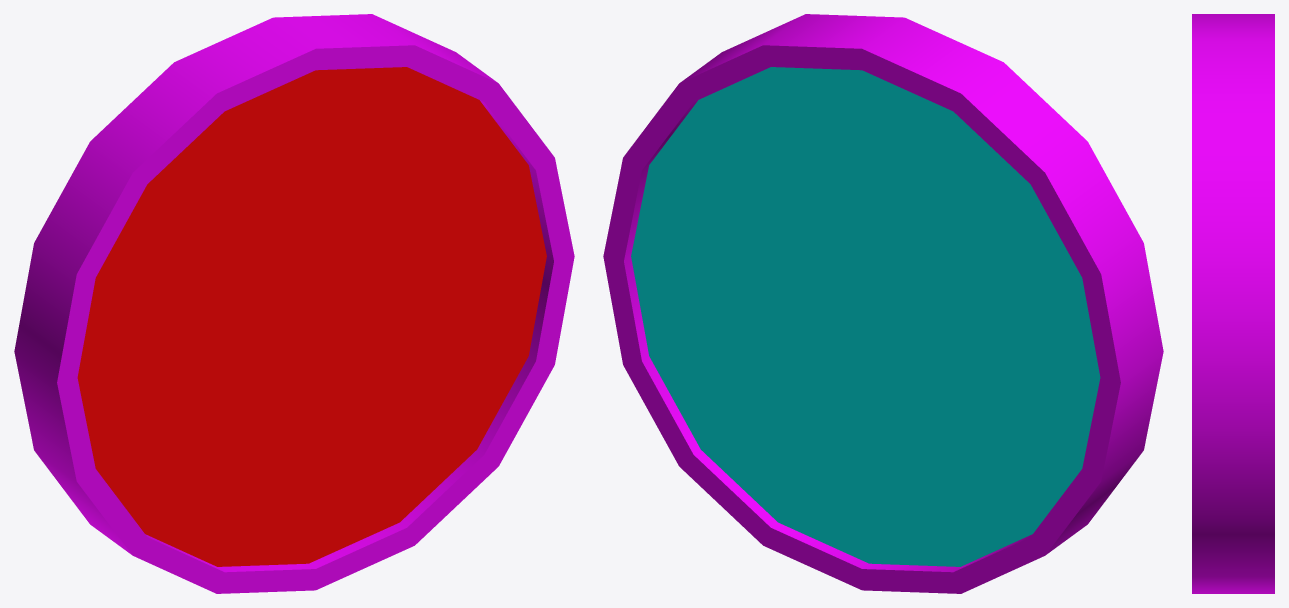
File: coin.fbx
3 views of the same model, side by side, from view 1: azimuth 30°, elevation 25°; view 2: azimuth 150°, elevation 25°; view 3: azimuth 270°, elevation 25° (orthographic). The views are drawn at different scales.
Parts seen in each view (by area): view 1: Coin; view 2: Coin; view 3: Coin.
Boxes of the visible parts, x1,y1,x2,y2 form: Coin: (14, 14, 574, 593); Coin: (603, 14, 1163, 593); Coin: (1192, 14, 1274, 593).
Size of the model in its own units: 7 by 7 by 1.
